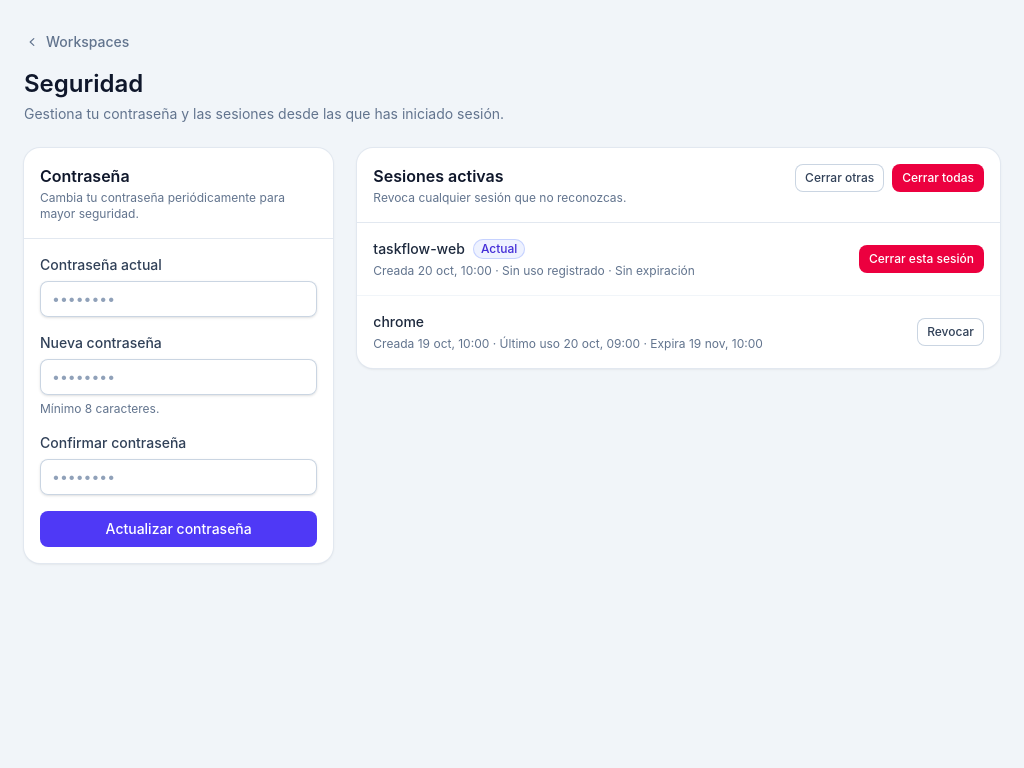
Test: SecurityPage › revokes another session
This screenshot has width=1024, height=768.
Check: the text "chrome" is shown, box [373,312,424,332]
Click the button "Revocar": (951, 332) [917,318,984,346]
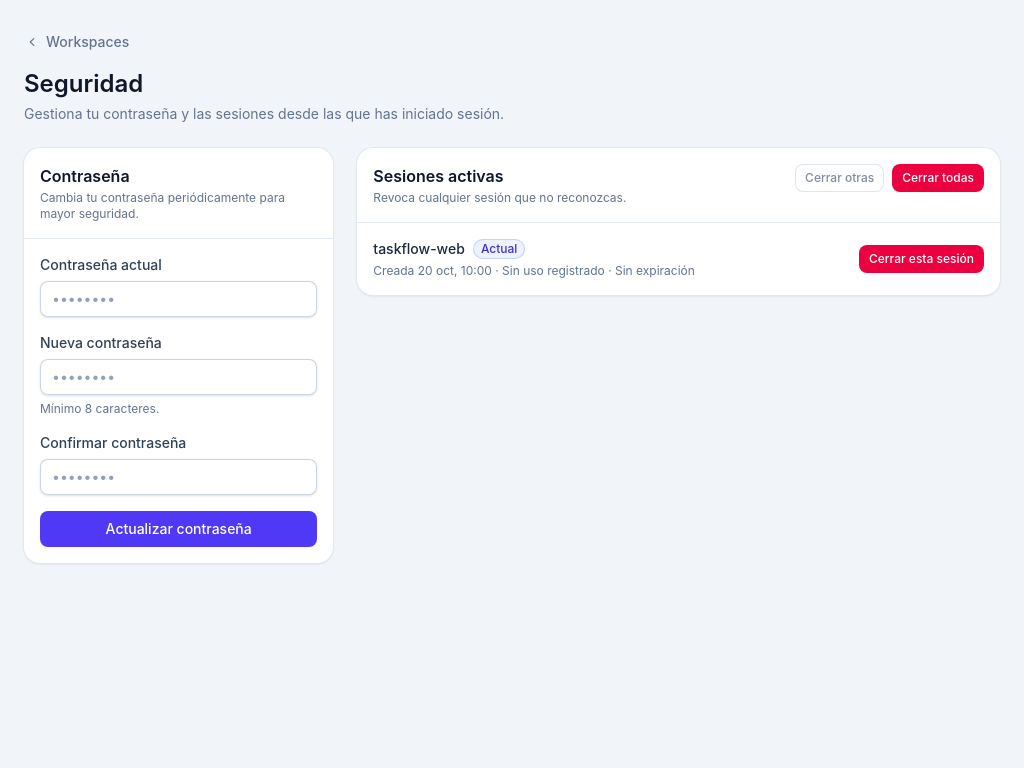
Check: the text "chrome" is gone
